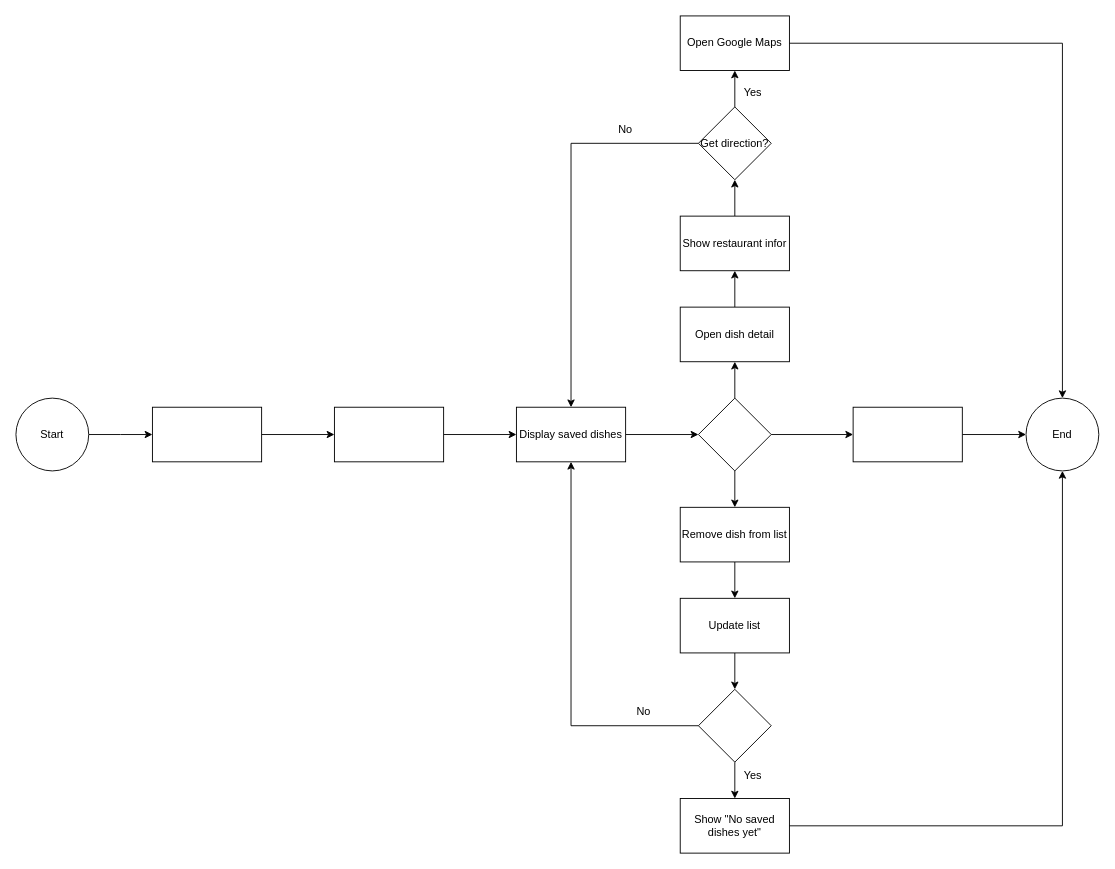
The diagram is 1115 pixels wide and 869 high, and some of its shapes have lost their labels. Here are the shapes that lost their labels. From the top down, the centre of each, then its label:
the point at 207,434: Swipe screen
the point at 389,434: Tap "Saved list"
the point at 734,434: User action
the point at 907,434: Return to swipe screen
the point at 734,725: List empty?
